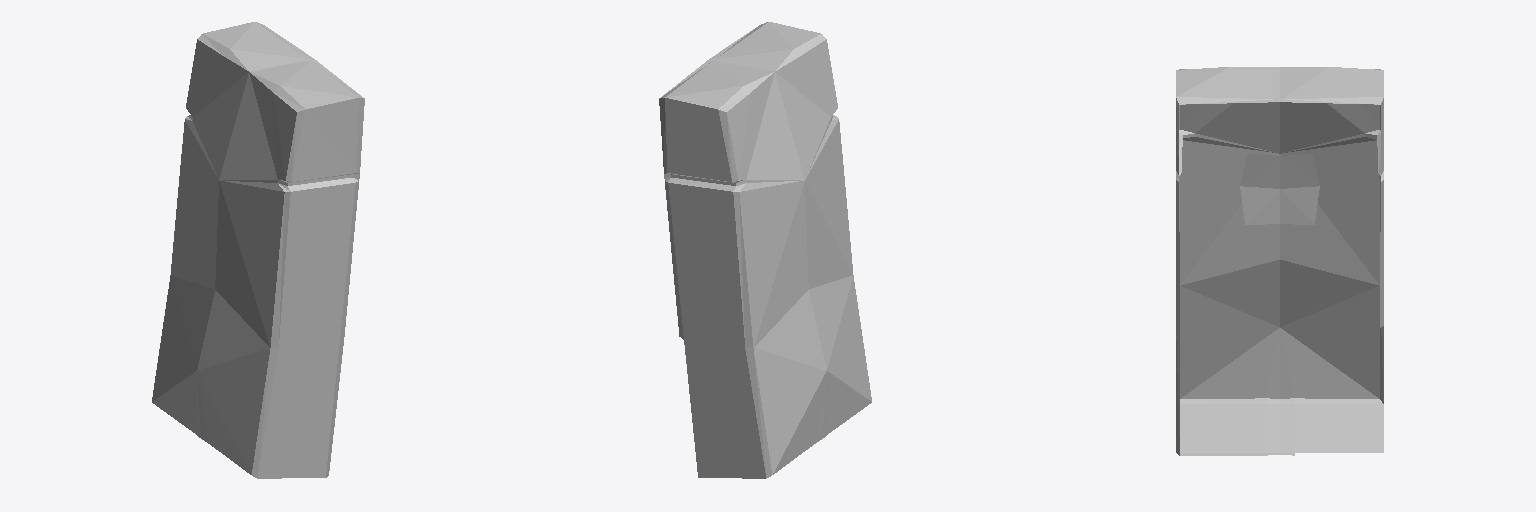
The model's file is tas.obj.
The picture shows the model from 3 angles: view 1: azimuth 30°, elevation 25°; view 2: azimuth 150°, elevation 25°; view 3: azimuth 270°, elevation 25°; orthographic projection.
Parts seen in each view (by area): view 1: Body.000; view 2: Body.000; view 3: Body.000.
Part boxes in pixels (x1,y1,x2,y2): Body.000: (152,22,364,478); Body.000: (659,22,871,478); Body.000: (1176,67,1383,455).
Bounding box in the file's own units: 0.4089 × 1.25 × 0.6256.